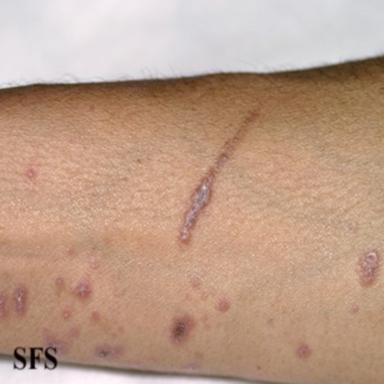lichen: (179, 111, 258, 244), (170, 313, 196, 345), (358, 250, 379, 285), (43, 328, 68, 357), (94, 343, 125, 360), (12, 284, 27, 316), (184, 352, 203, 374), (73, 277, 91, 299), (296, 342, 312, 358), (217, 297, 230, 312), (25, 165, 38, 180), (0, 291, 7, 317), (346, 220, 359, 234), (191, 274, 202, 289), (68, 326, 80, 339), (90, 311, 101, 323), (89, 258, 100, 269), (55, 276, 65, 288), (62, 308, 72, 320), (349, 303, 359, 313), (200, 290, 209, 301)
